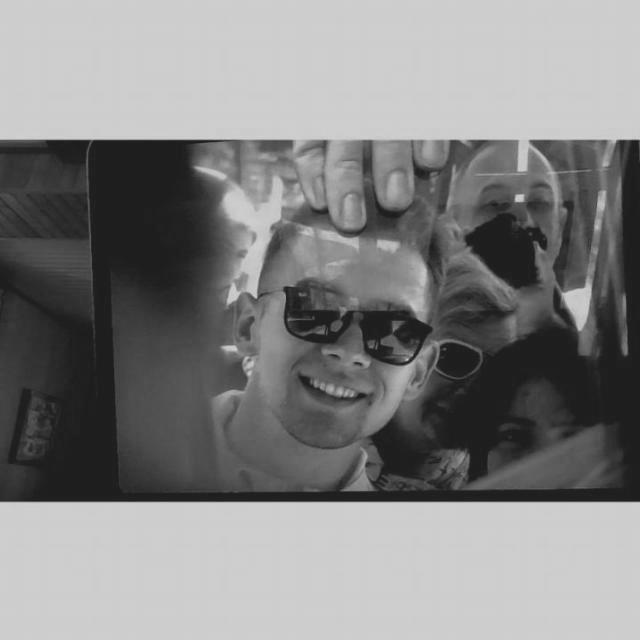fake: (85, 138, 640, 500)
